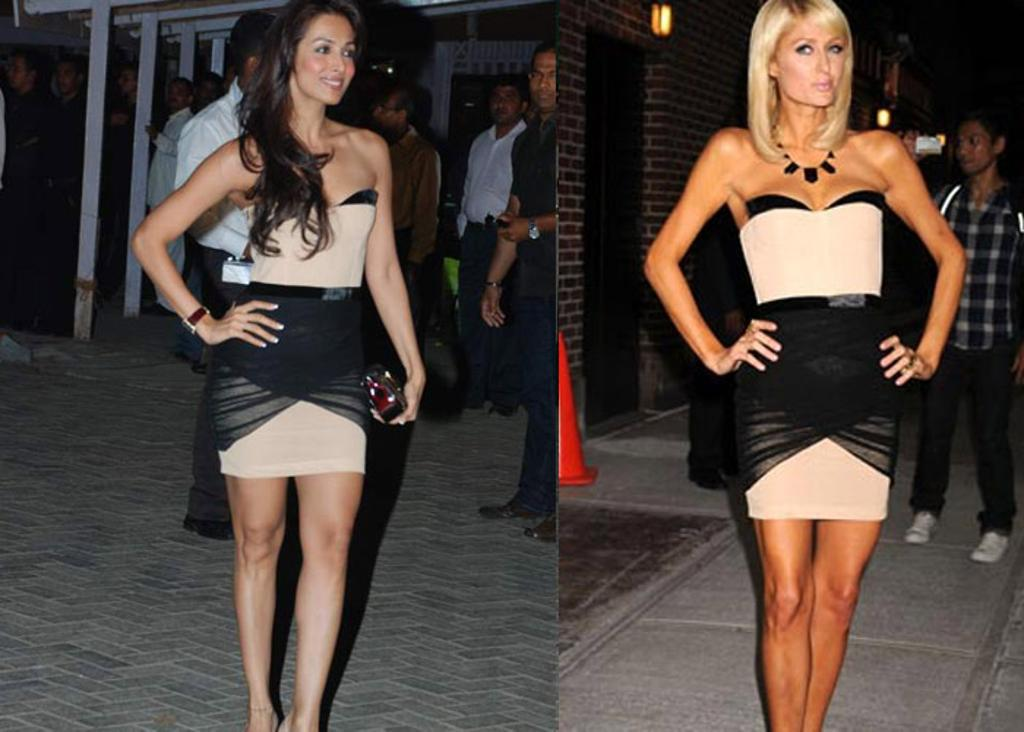face: (776, 23, 847, 106), (294, 22, 357, 104), (959, 126, 995, 173), (533, 61, 567, 108), (903, 131, 934, 163), (493, 89, 520, 122), (376, 100, 397, 134), (58, 65, 77, 94), (9, 60, 28, 88), (169, 84, 188, 107), (201, 85, 219, 108), (120, 73, 137, 96)
